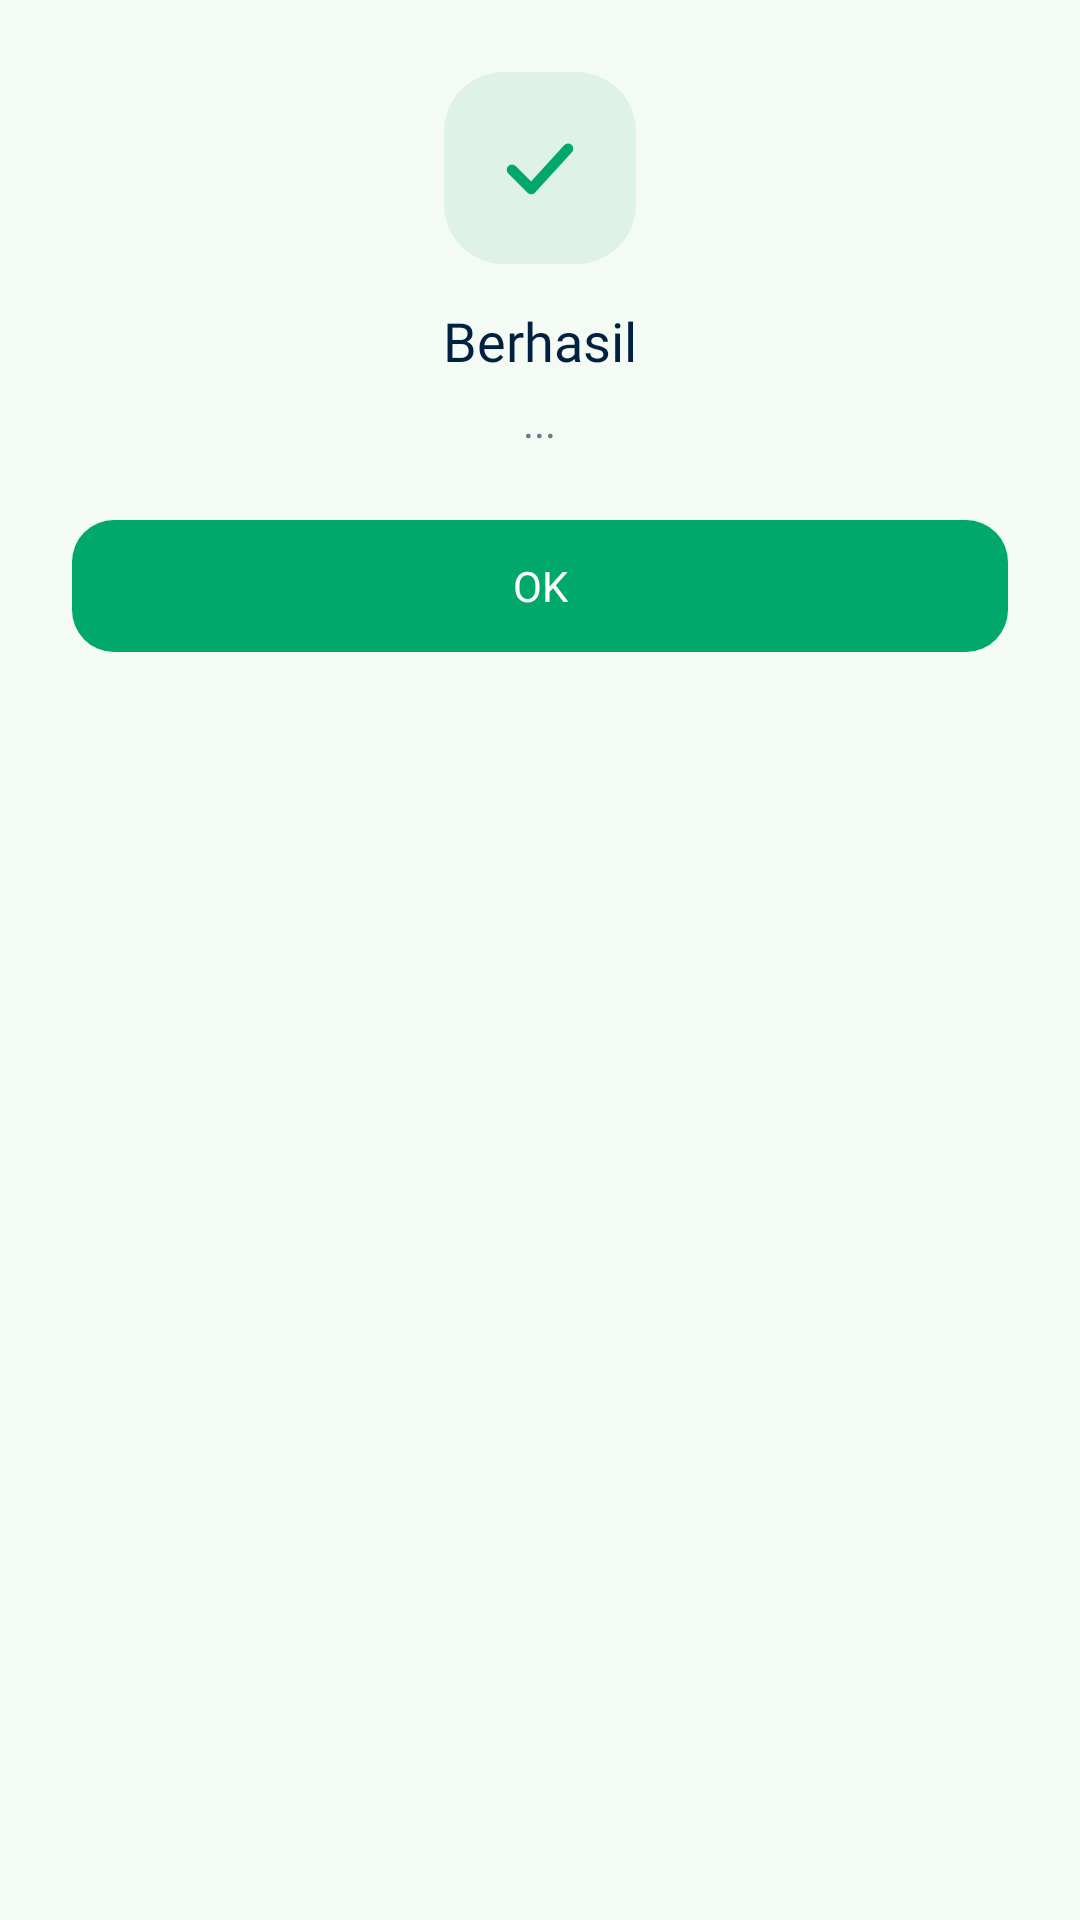

Icons on this 1080px x 1920px Android screen, each with the point to tap as (x,y):
check: (540,169)
